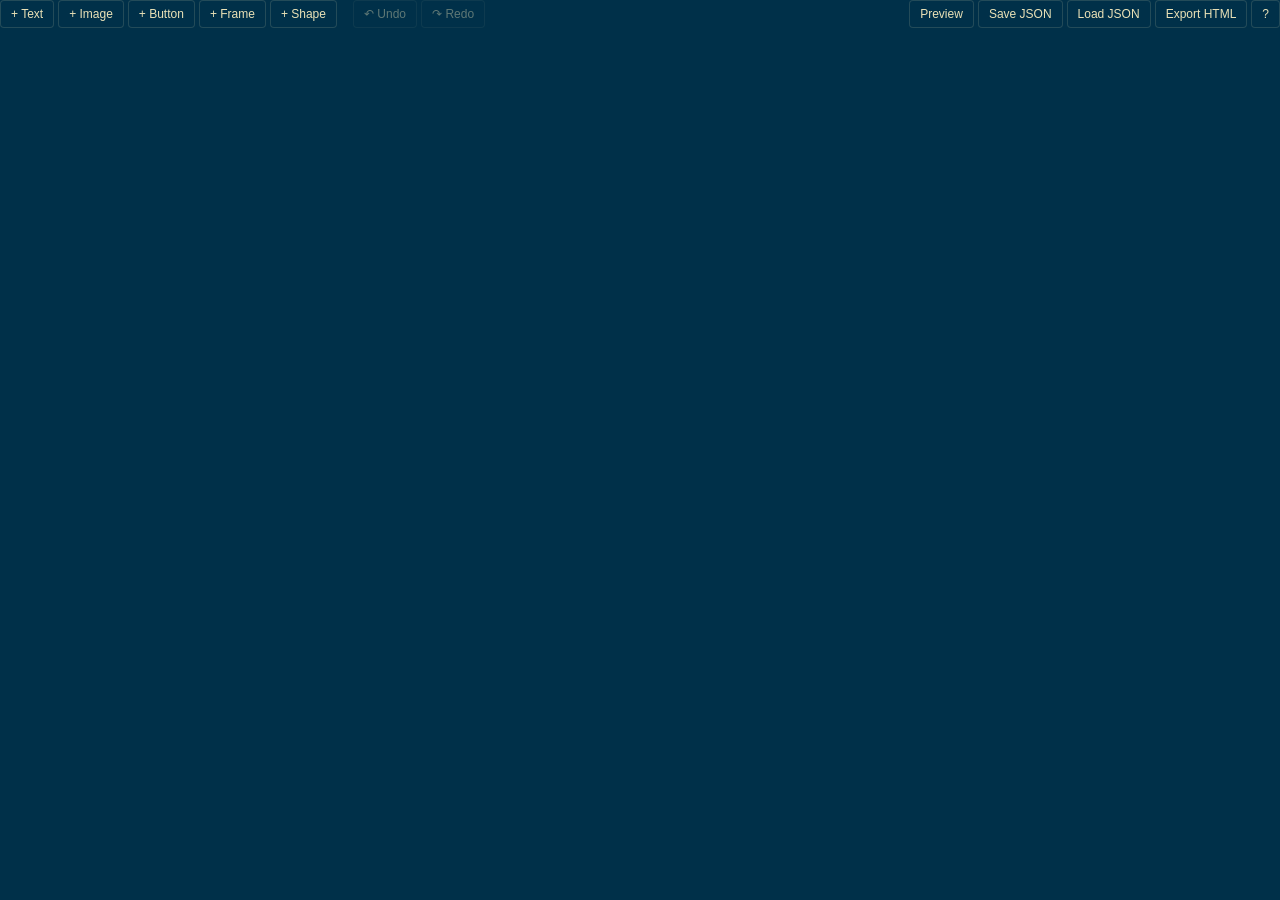
Test: Toolbar › Help 모달 › ? 버튼 클릭 시 ShortcutsHelp가 마운트된다
The image size is (1280, 900).
Click the button "?" at (1266, 14), box x1=1251 y1=0 x2=1279 y2=28
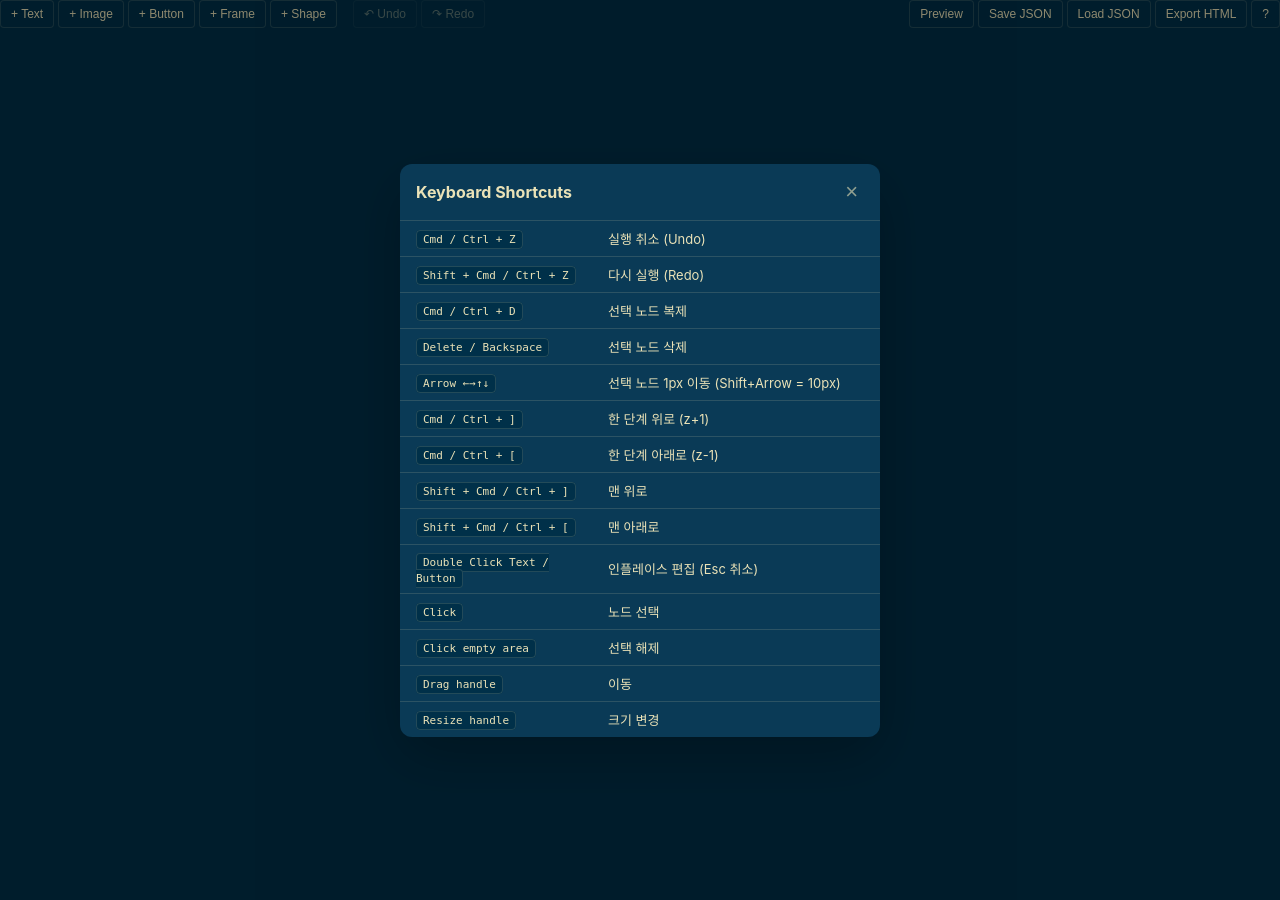
Expected: the element with class "shortcuts-help" is shown
